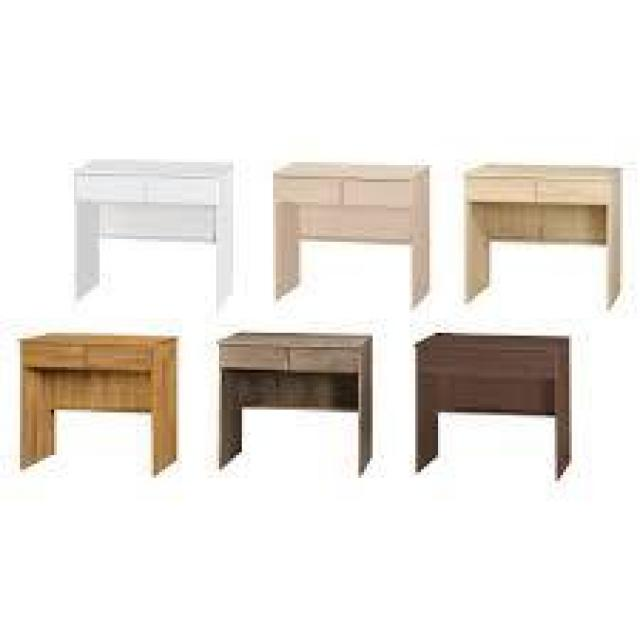table: (8, 90, 623, 488)
